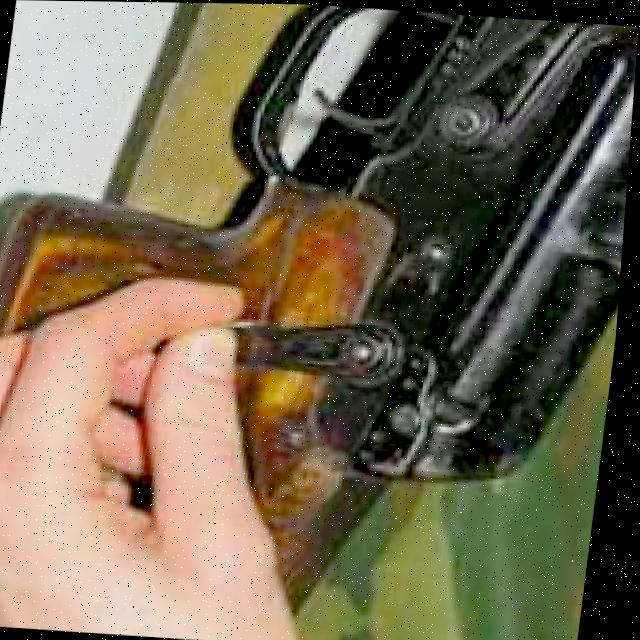firearm: (0, 0, 640, 581)
